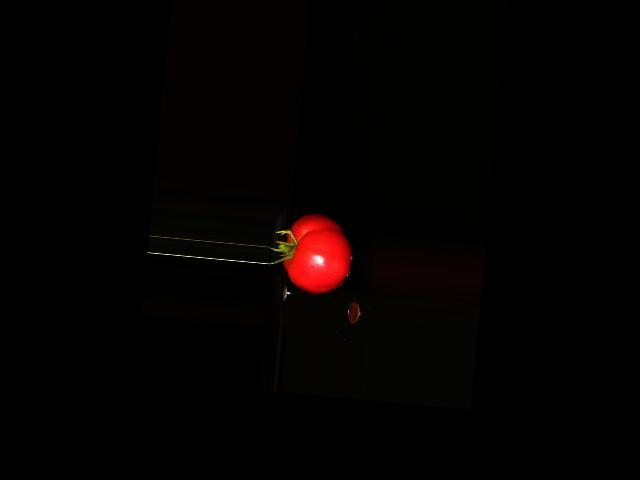tomato: (280, 210, 356, 296)
